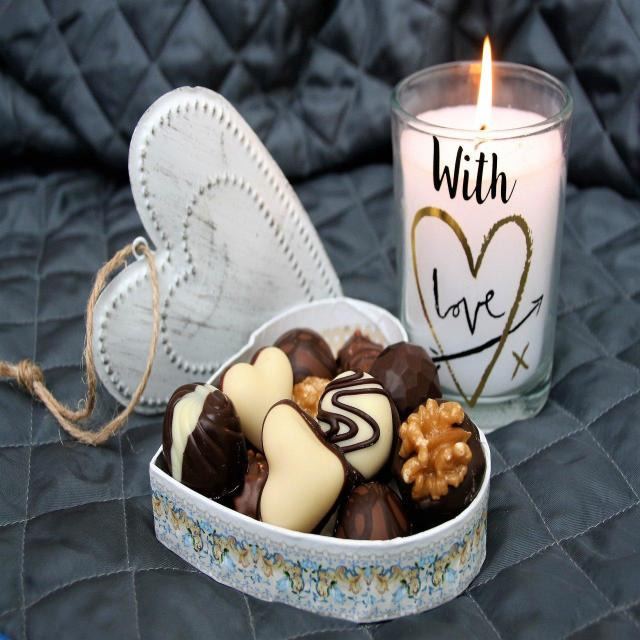Fire_Save: (392, 35, 572, 431)
